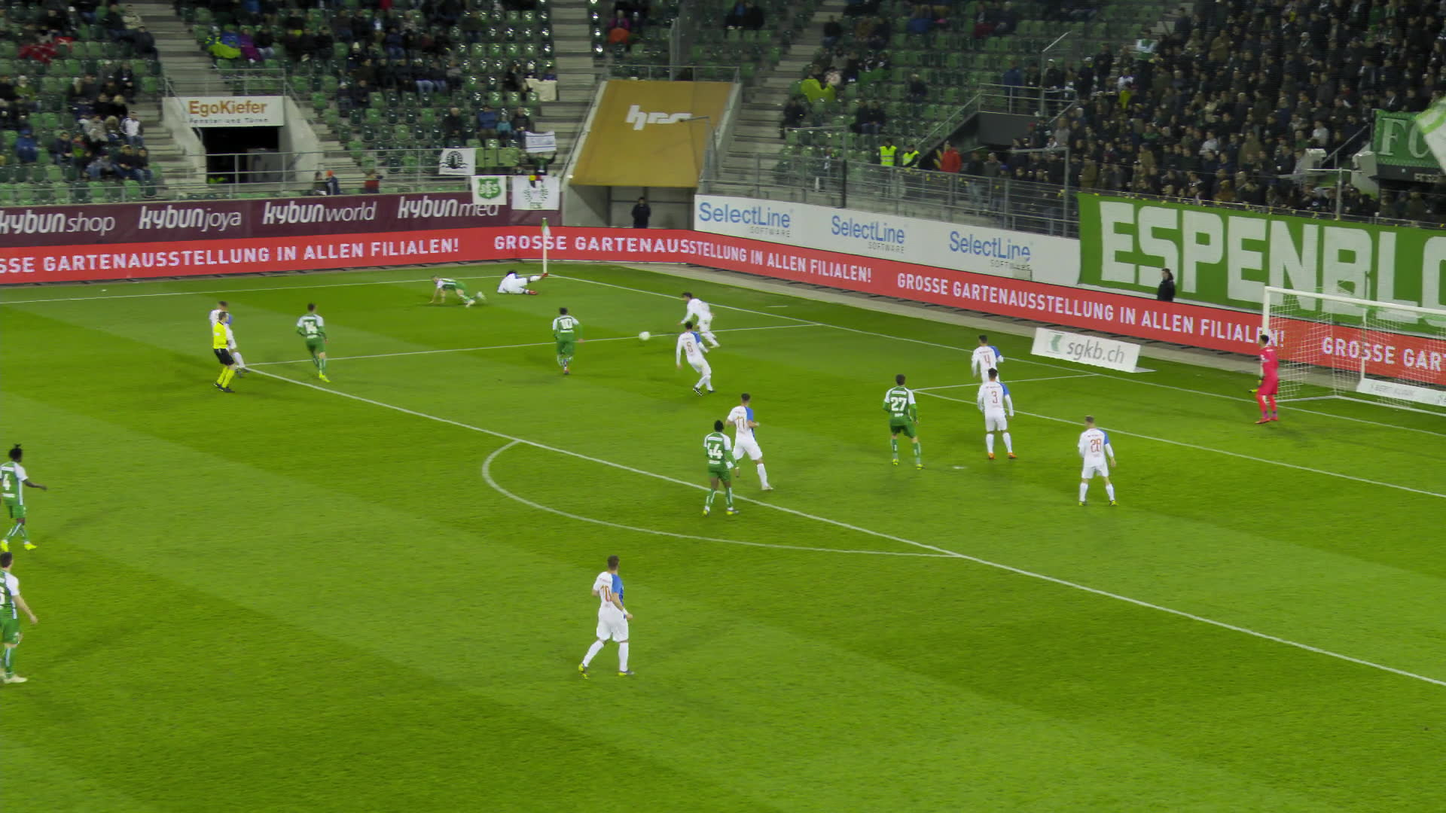ball: (639, 330, 650, 340)
player: (576, 553, 634, 679), (0, 553, 38, 684), (724, 390, 773, 491), (0, 445, 47, 549), (882, 373, 927, 470), (699, 419, 740, 518), (1078, 416, 1119, 510), (978, 367, 1017, 461), (675, 320, 717, 398), (208, 300, 249, 379), (970, 333, 1005, 419), (296, 302, 331, 383), (677, 291, 720, 350), (551, 306, 583, 375), (1254, 333, 1278, 425), (429, 276, 486, 306), (497, 269, 548, 296)
referee: (212, 313, 238, 392)
